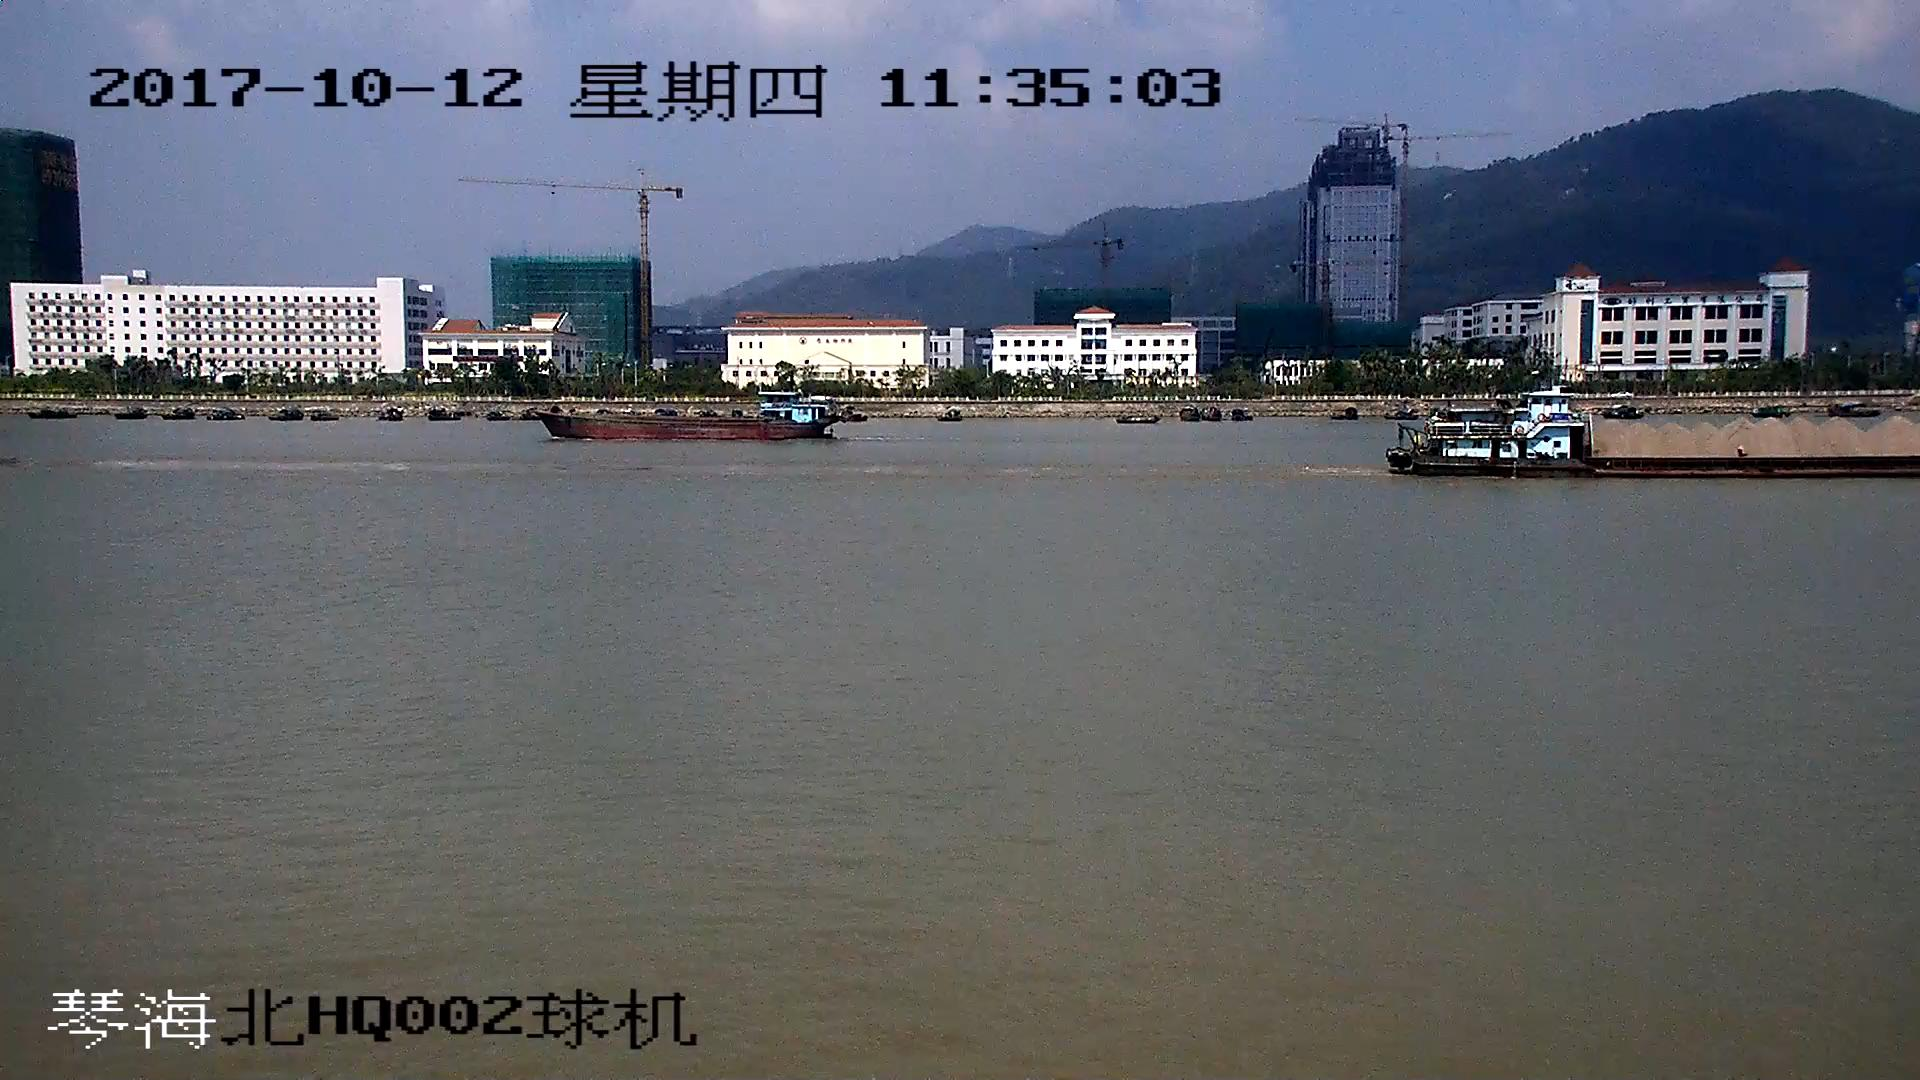bulk cargo carrier: (535, 395, 835, 440)
ore carrier: (1391, 393, 1920, 478)
